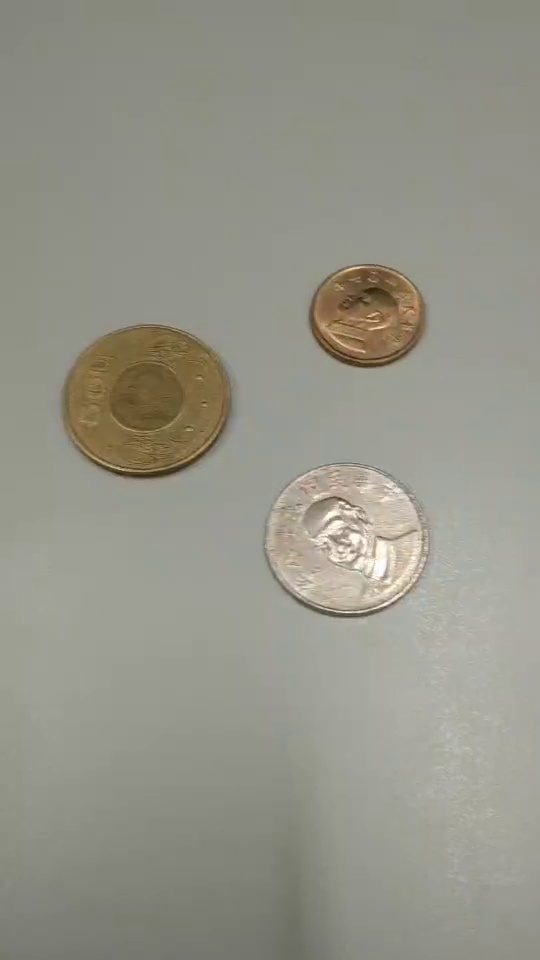NT$ 1: (311, 264, 428, 367)
NT$ 10: (265, 462, 429, 619)
NT$ 50: (58, 323, 236, 477)
